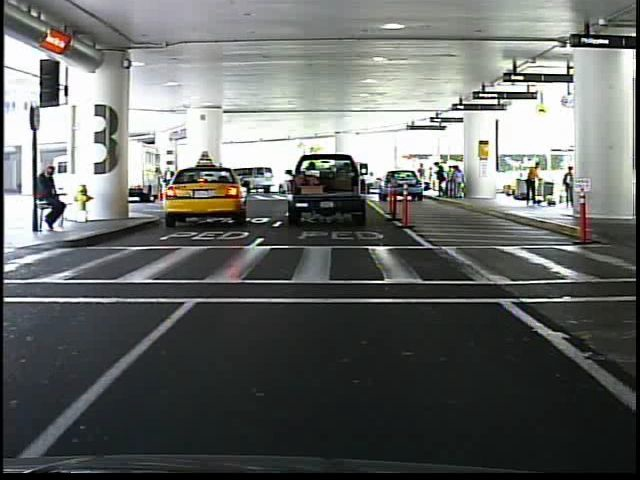person: (38, 160, 72, 231), (523, 157, 545, 210), (562, 162, 575, 208), (417, 161, 430, 196)
